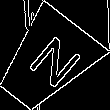N_SW: (13, 30, 79, 94)
